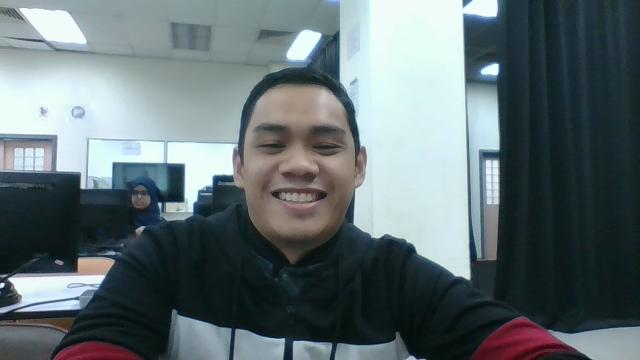senang: (240, 68, 364, 250)
